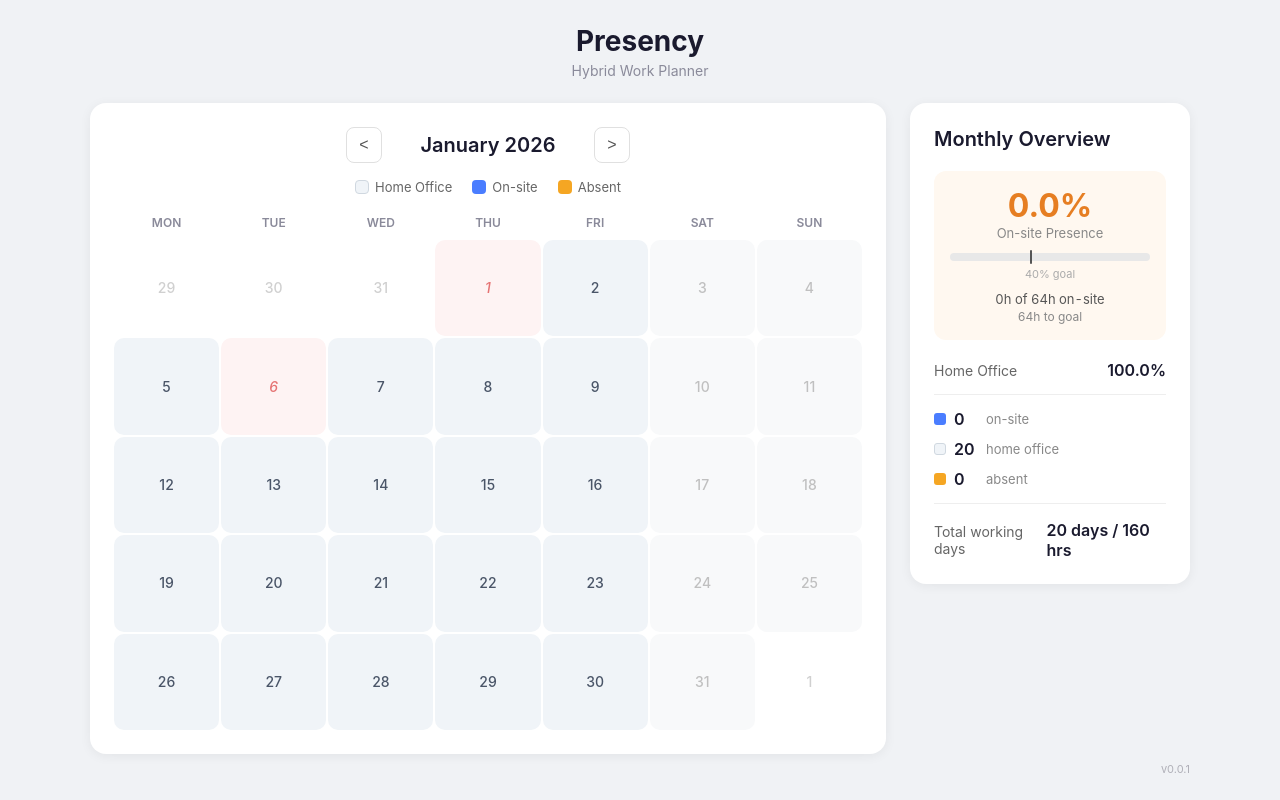
Scenario: App integration › navigating prev from January wraps to December of the previous year
Expected: the heading "January 2026" is shown, [420,133,556,157]
What coordinates should you click on to do the following:
click the button named "Previous month"
I would click on:
 (364, 145)
Its box is [346,127,382,163].
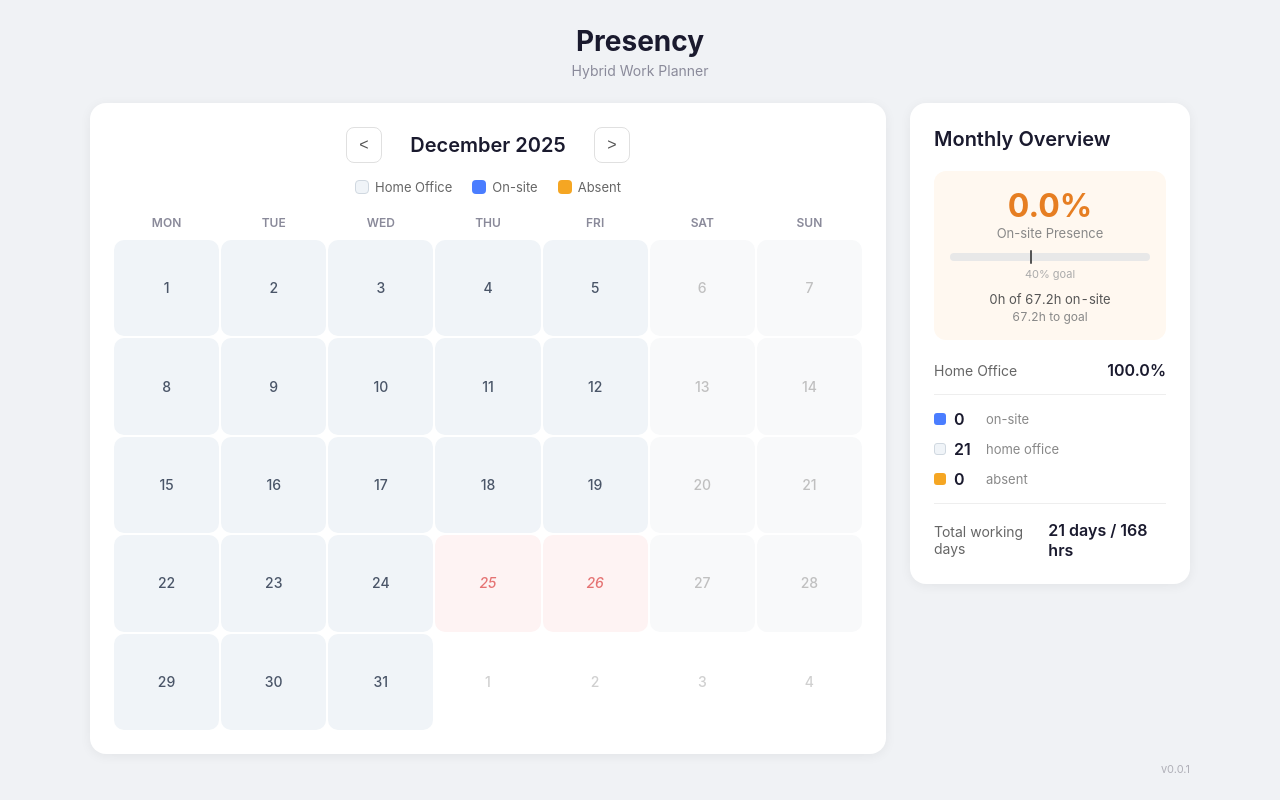
Expected: the heading "December 2025" is shown, [398,133,578,157]
